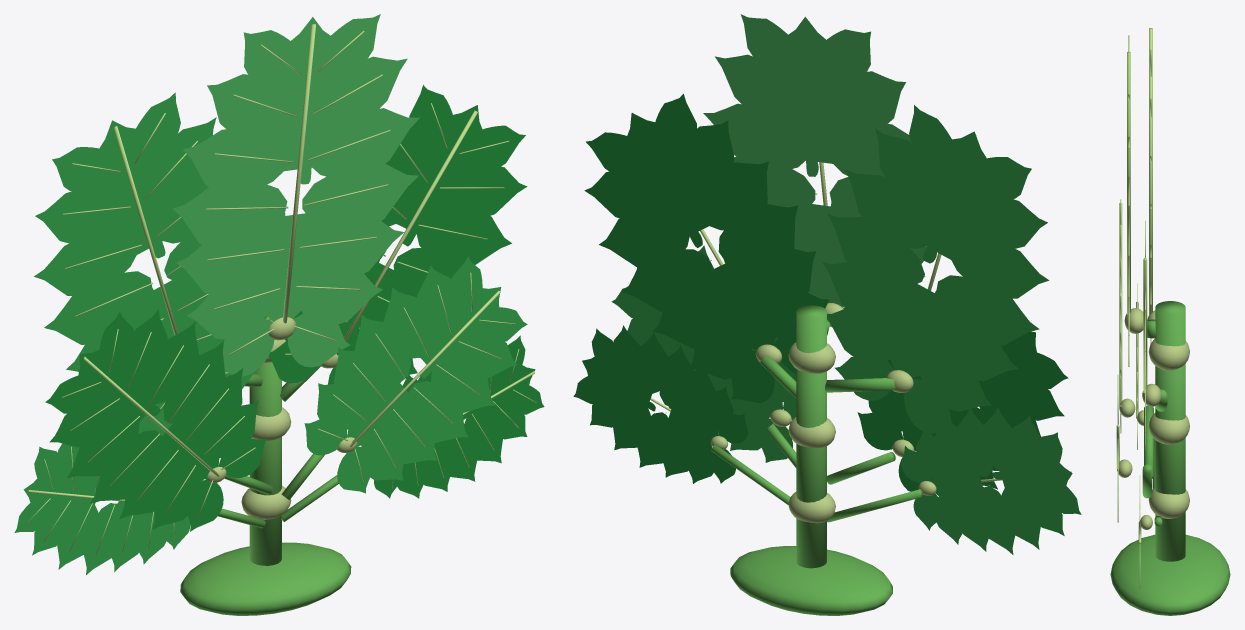
Rendered from Monstera_Deliciosa.glb.
3 views of the same model, side by side, from view 1: azimuth 30°, elevation 25°; view 2: azimuth 150°, elevation 25°; view 3: azimuth 270°, elevation 25° (orthographic). The views are drawn at different scales.
Parts seen in each view (by area): view 1: SM_Monstera_Gross_Mitte_Blatt_Oberes_Blattfeld, SM_Monstera_Gross_Links_Blatt_Oberes_Blattfeld, SM_Monstera_Wurzelansatz, SM_Monstera_Gross_Rechts_Blatt_Oberes_Blattfeld, SM_Monstera_Vorne_Links_Blatt_Oberes_Blattfeld, SM_Monstera_Gross_Mitte_Blatt_Unteres_Blattfeld, SM_Monstera_Gross_Mitte_Blatt_Blattfinger_1_4, SM_Monstera_Gross_Mitte_Blatt_Blattfinger_0_4, SM_Monstera_Gross_Mitte_Blatt_Blattfinger_1_5, SM_Monstera_Gross_Links_Blatt_Blattfinger_1_4, SM_Monstera_Gross_Mitte_Blatt_Blattfinger_1_3, SM_Monstera_Vorne_Rechts_Blatt_Oberes_Blattfeld (+74 smaller); view 2: SM_Monstera_Gross_Mitte_Blatt_Oberes_Blattfeld, SM_Monstera_Gross_Links_Blatt_Oberes_Blattfeld, SM_Monstera_Wurzelansatz, SM_Monstera_Gross_Rechts_Blatt_Oberes_Blattfeld, SM_Monstera_Hauptstamm, SM_Monstera_Gross_Links_Blatt_Unteres_Blattfeld, SM_Monstera_Gross_Links_Blatt_Blattfinger_1_4, SM_Monstera_Gross_Mitte_Blatt_Blattfinger_0_5, SM_Monstera_Gross_Rechts_Blatt_Blattfinger_0_4, SM_Monstera_Gross_Rechts_Blatt_Unteres_Blattfeld, SM_Monstera_Gross_Links_Blatt_Blattfinger_0_4, SM_Monstera_Gross_Links_Blatt_Blattfinger_0_5 (+74 smaller); view 3: SM_Monstera_Wurzelansatz, SM_Monstera_Hauptstamm, SM_Monstera_Gross_Links_Blatt_Helle_Mittelader, SM_Monstera_Gross_Mitte_Blatt_Helle_Mittelader, SM_Monstera_Stammknoten_0.48, SM_Monstera_Stammknoten_0.33, SM_Monstera_Stammknoten_0.18, SM_Monstera_Vorne_Links_Blatt_Helle_Mittelader, SM_Monstera_Gross_Rechts_Blatt_Helle_Mittelader, SM_Monstera_Vorne_Links_Blattstiel, SM_Monstera_Gross_Mitte_Blattansatz, SM_Monstera_Vorne_Rechts_Blattstiel (+4 smaller).
Part boxes in pixels (x1,y1,x2,y2): SM_Monstera_Gross_Mitte_Blatt_Oberes_Blattfeld: (241, 17, 366, 172); SM_Monstera_Gross_Links_Blatt_Oberes_Blattfeld: (74, 120, 193, 259); SM_Monstera_Wurzelansatz: (180, 542, 351, 615); SM_Monstera_Gross_Rechts_Blatt_Oberes_Blattfeld: (387, 105, 494, 237); SM_Monstera_Vorne_Links_Blatt_Oberes_Blattfeld: (71, 338, 164, 438); SM_Monstera_Gross_Mitte_Blatt_Unteres_Blattfeld: (250, 213, 327, 321); SM_Monstera_Gross_Mitte_Blatt_Blattfinger_1_4: (172, 182, 287, 249); SM_Monstera_Gross_Mitte_Blatt_Blattfinger_0_4: (302, 163, 418, 232); SM_Monstera_Gross_Mitte_Blatt_Blattfinger_1_5: (183, 128, 290, 192); SM_Monstera_Gross_Links_Blatt_Blattfinger_1_4: (44, 271, 151, 344); SM_Monstera_Gross_Mitte_Blatt_Blattfinger_1_3: (176, 230, 281, 295); SM_Monstera_Vorne_Rechts_Blatt_Oberes_Blattfeld: (413, 284, 501, 379); SM_Monstera_Gross_Mitte_Blatt_Oberes_Blattfeld: (753, 16, 873, 164); SM_Monstera_Gross_Links_Blatt_Oberes_Blattfeld: (897, 131, 1010, 263); SM_Monstera_Wurzelansatz: (730, 546, 892, 615); SM_Monstera_Gross_Rechts_Blatt_Oberes_Blattfeld: (615, 113, 726, 238); SM_Monstera_Hauptstamm: (796, 305, 826, 568); SM_Monstera_Gross_Links_Blatt_Unteres_Blattfeld: (881, 282, 952, 378); SM_Monstera_Gross_Links_Blatt_Blattfinger_1_4: (936, 275, 1039, 345); SM_Monstera_Gross_Mitte_Blatt_Blattfinger_0_5: (703, 103, 811, 168); SM_Monstera_Gross_Rechts_Blatt_Blattfinger_0_4: (621, 249, 711, 313); SM_Monstera_Gross_Rechts_Blatt_Unteres_Blattfeld: (704, 264, 779, 349); SM_Monstera_Gross_Links_Blatt_Blattfinger_0_4: (827, 214, 924, 287); SM_Monstera_Gross_Links_Blatt_Blattfinger_0_5: (845, 169, 934, 248); SM_Monstera_Wurzelansatz: (1110, 534, 1230, 615); SM_Monstera_Hauptstamm: (1155, 301, 1185, 561); SM_Monstera_Gross_Links_Blatt_Helle_Mittelader: (1149, 28, 1152, 315); SM_Monstera_Gross_Mitte_Blatt_Helle_Mittelader: (1127, 51, 1130, 314); SM_Monstera_Stammknoten_0.48: (1148, 338, 1189, 370); SM_Monstera_Stammknoten_0.33: (1148, 413, 1189, 444); SM_Monstera_Stammknoten_0.18: (1148, 487, 1189, 518); SM_Monstera_Vorne_Links_Blatt_Helle_Mittelader: (1119, 203, 1122, 406); SM_Monstera_Gross_Rechts_Blatt_Helle_Mittelader: (1143, 257, 1147, 392); SM_Monstera_Vorne_Links_Blattstiel: (1144, 405, 1153, 478); SM_Monstera_Gross_Mitte_Blattansatz: (1124, 308, 1143, 333); SM_Monstera_Vorne_Rechts_Blattstiel: (1142, 464, 1152, 498).
Size of the model in its own units: 1.06 by 1.13 by 0.22.
